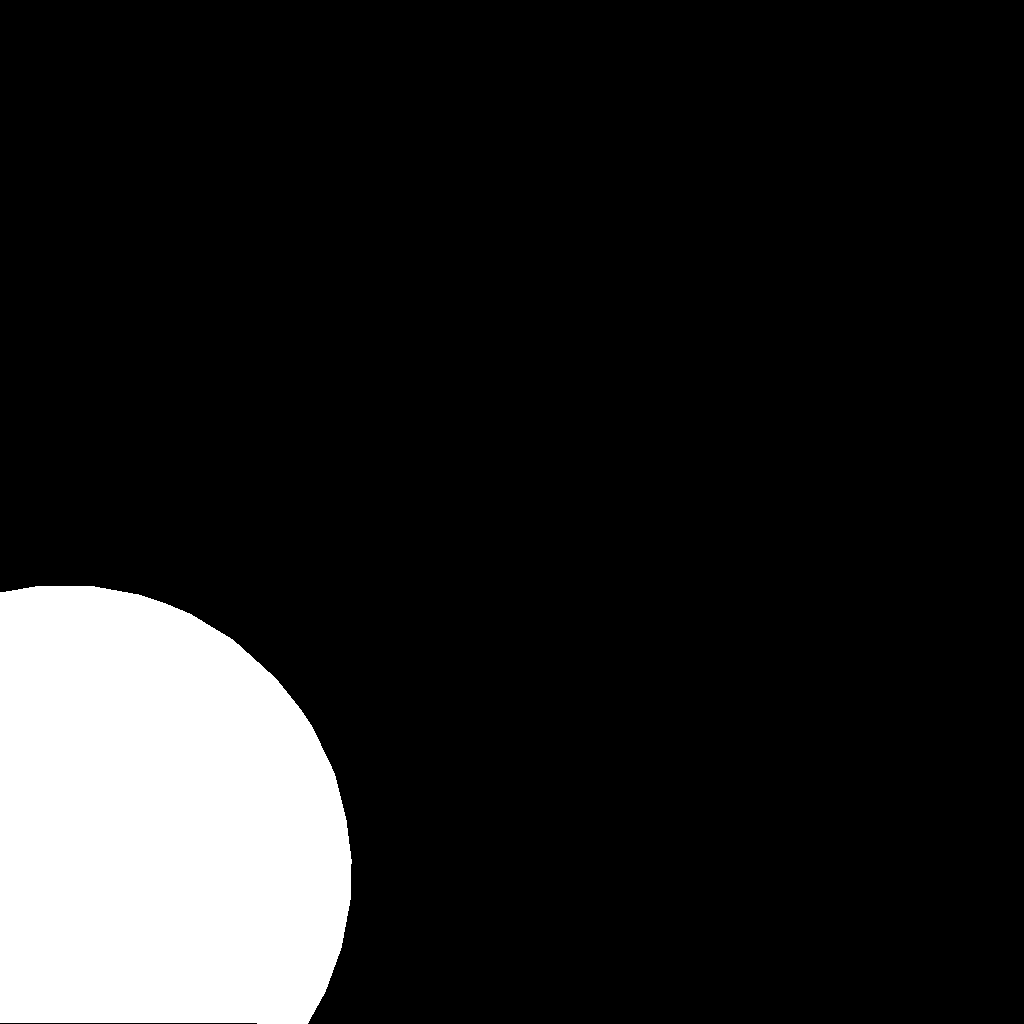building: (0, 585, 352, 1024)
